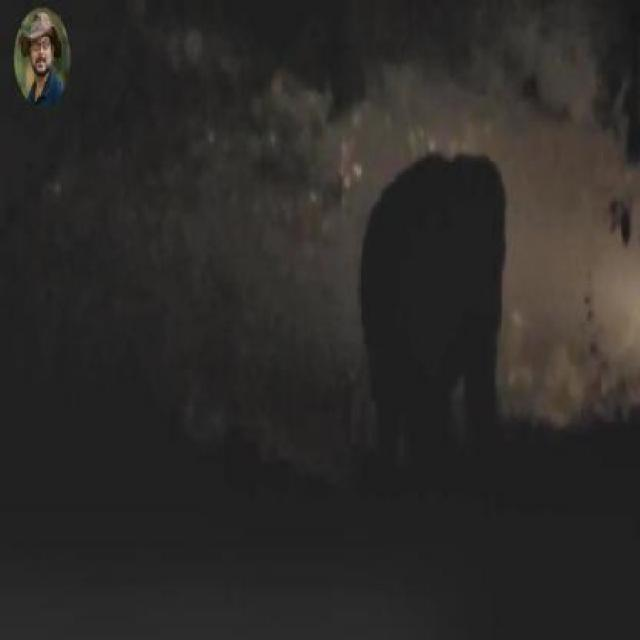Elephant: (358, 150, 510, 484)
